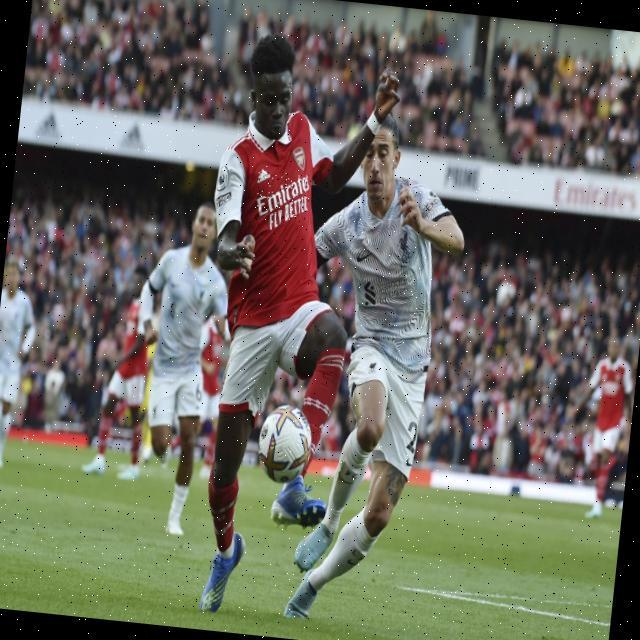Adidas: (255, 165, 272, 186)
Emirates: (254, 171, 312, 222)
Nike: (334, 470, 357, 485), (357, 250, 374, 262), (405, 455, 415, 472)
